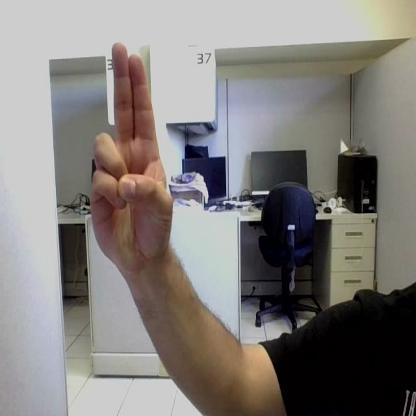U: (91, 44, 172, 262)
